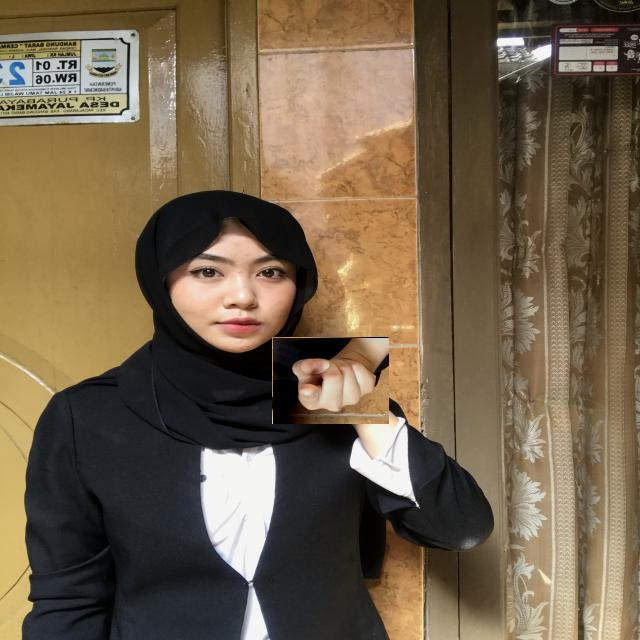kamu: (272, 337, 389, 424)
